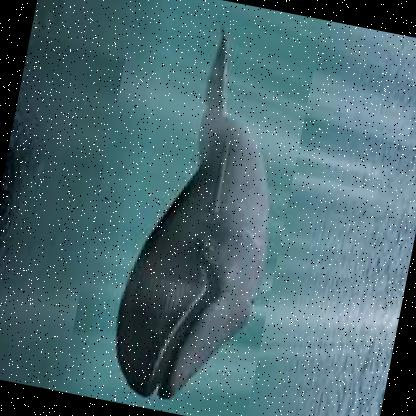blue_whale: (60, 3, 320, 415)
